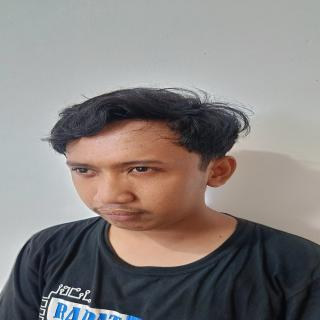Marah: (48, 112, 230, 237)
